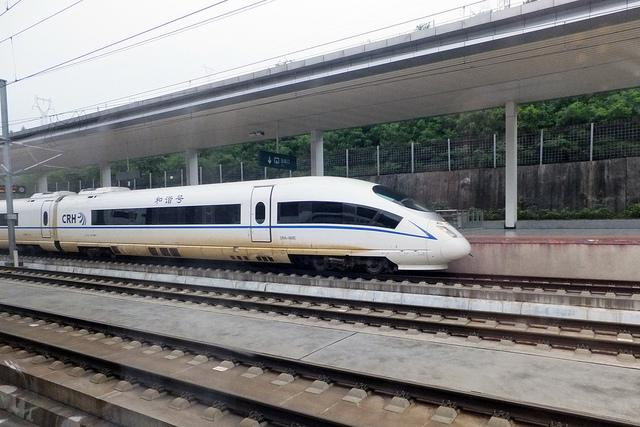Train: (5, 174, 475, 284)
